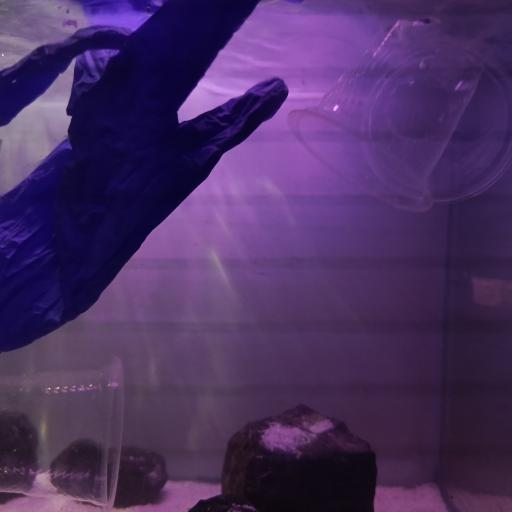glove: (2, 0, 290, 353)
plastic_cup: (286, 17, 487, 213), (358, 42, 508, 206), (0, 354, 126, 510)
